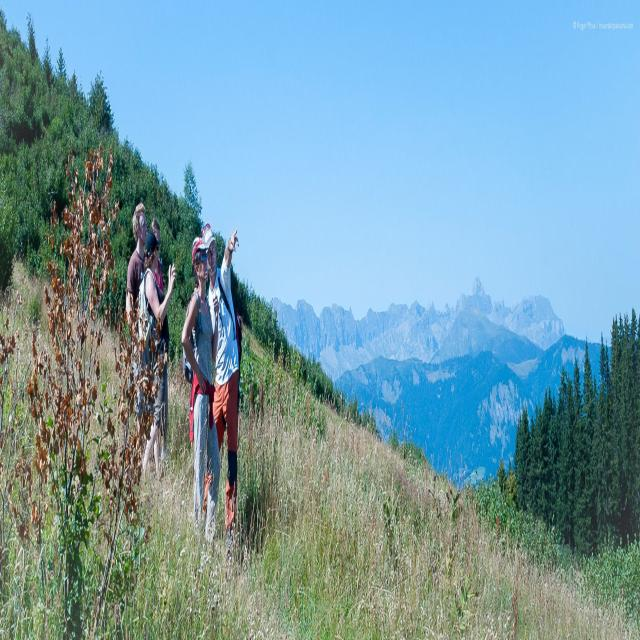body: (198, 217, 244, 563), (180, 232, 222, 549), (138, 228, 177, 486), (125, 200, 154, 422), (150, 218, 171, 468)
